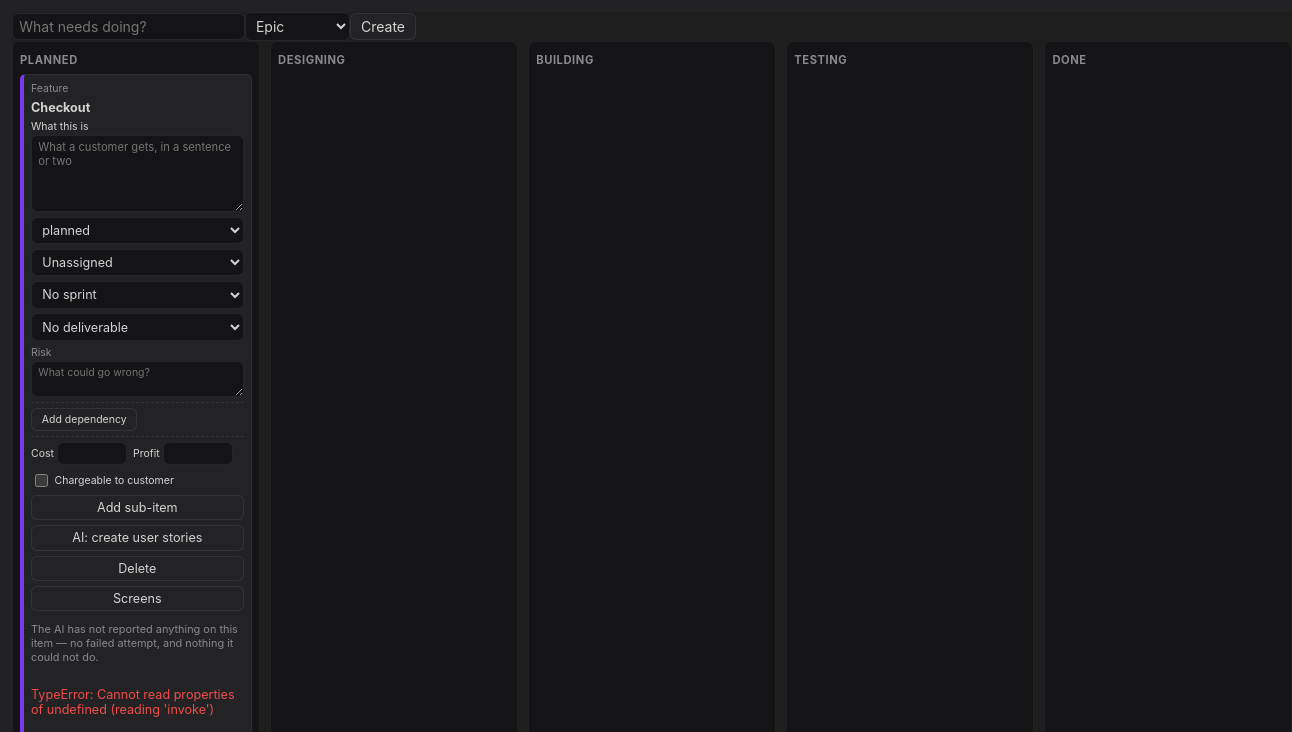
PlanningBoard › treats an AI refusal as a question to answer, not a failure
This screenshot has width=1292, height=732.
Click the button with aria-label "AI: create user stories for Checkout".
click(137, 538)  # box [31,525,244,551]
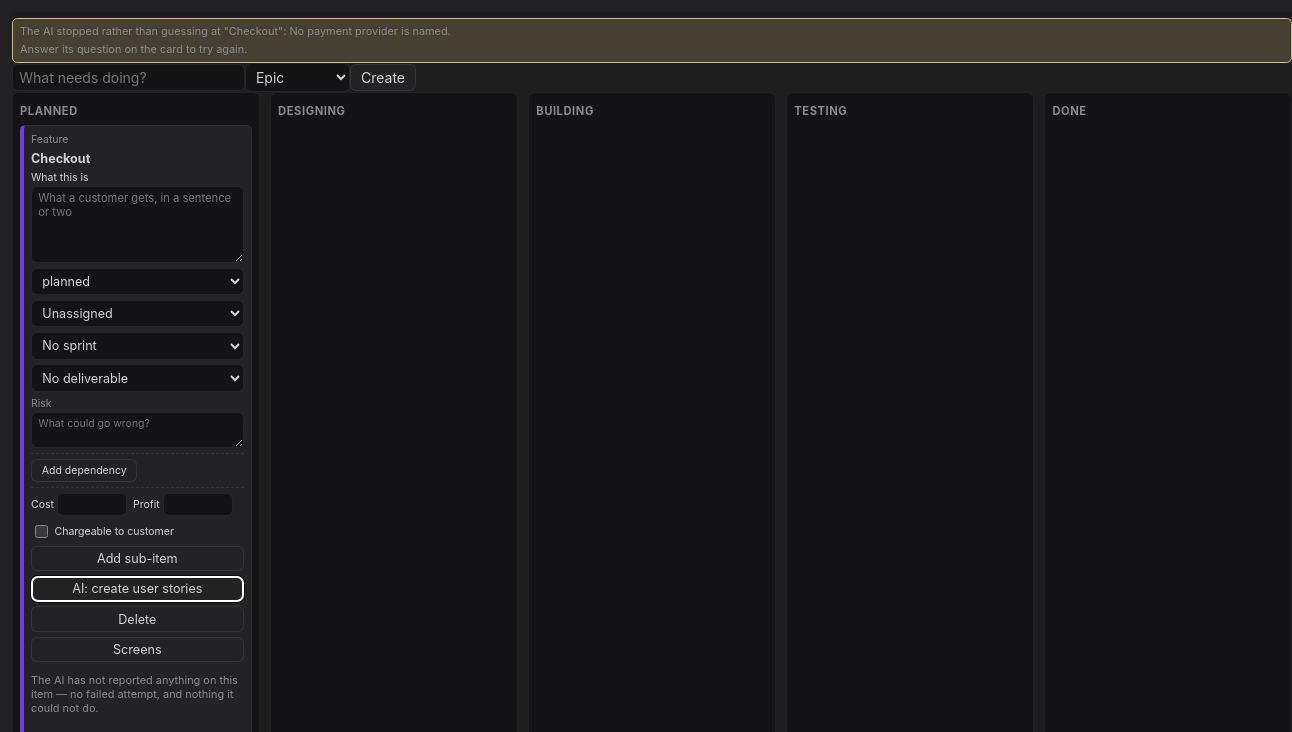
Check: the message shows "stopped rather than guessing", box [12,18,1291,63]
Check: the message shows "No payment provider is named.", box [289,24,451,38]
